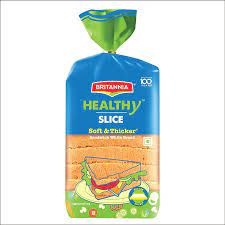bread: (60, 9, 164, 222)
